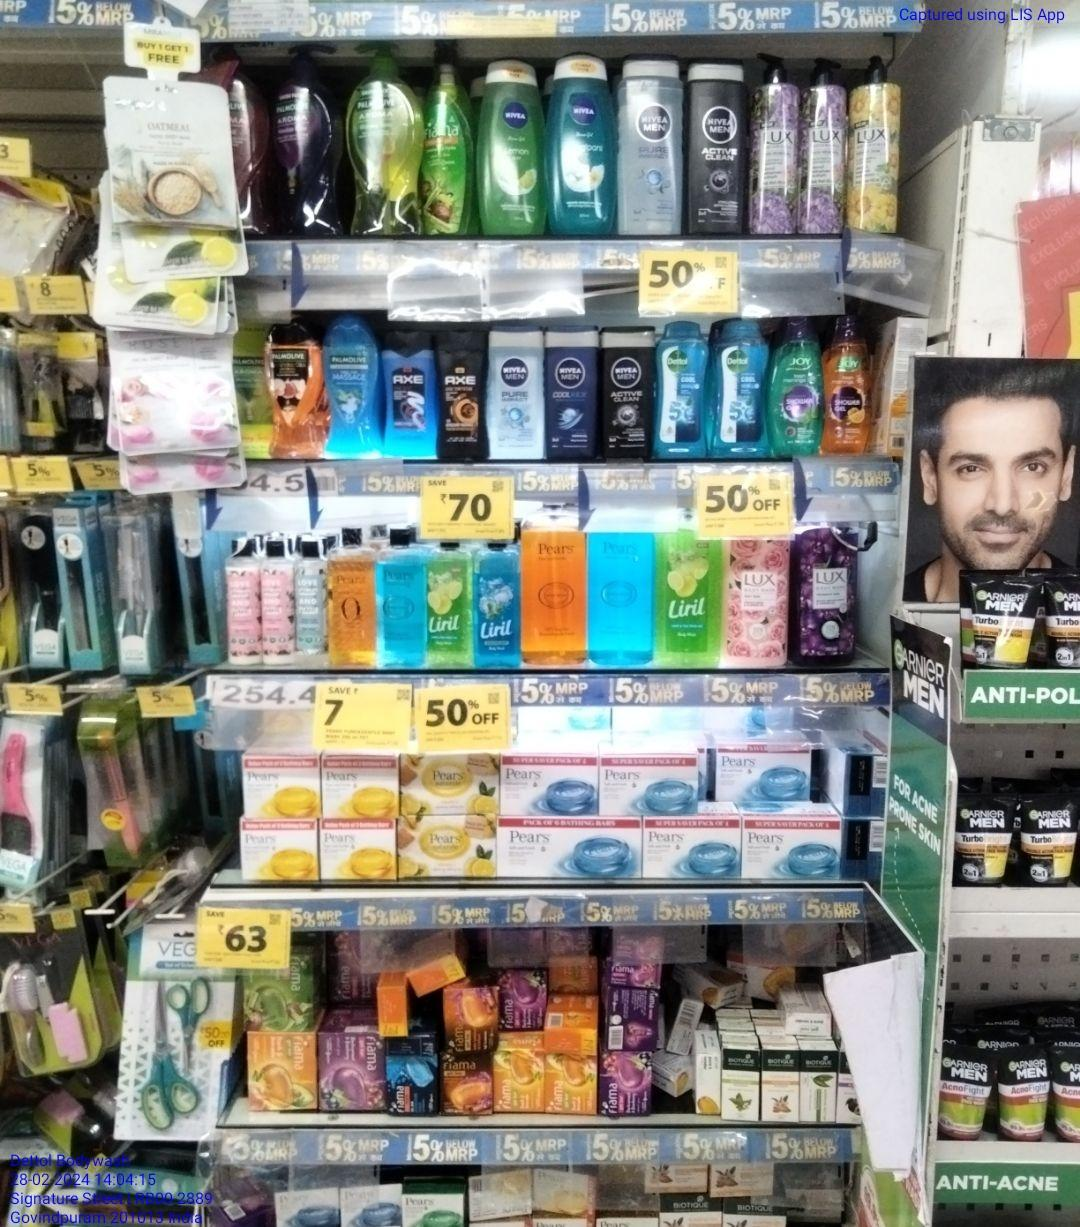Dettol_Bodywash_Cool: (657, 320, 710, 462), (717, 319, 768, 460)
Joy_Shower_Gel_Mandarin_and_Lemongrass_250ML: (824, 310, 868, 454)
Joy_Shower_Gel_Mint_and_Eucalyptus_250ML: (770, 317, 820, 456)
Liril_Cooling_Mint_Body_Wash_250ML: (474, 539, 522, 674)
Liril_Lime_and_Tea_Tree_Oil_Body_Wash_250ML: (428, 540, 473, 672)
Nivea_Shower_Gel_Frangipani_and_Oil_250ML: (549, 50, 616, 240)
Nivea_Shower_Gel_Lemon_and_Oil_250ML: (477, 58, 545, 237)
Palmolive_Aroma_Moments_Feel_The_Massage_Shower_Gel_250ML: (327, 313, 379, 458)
Palmolive_Luminous_Oils_With_White_Orchid_Shower_Gel_250ML: (266, 324, 319, 459)
Pears_Pure_Glycerin_and_Mint_Extracts_Body_Wash_250ML: (375, 528, 426, 672)
